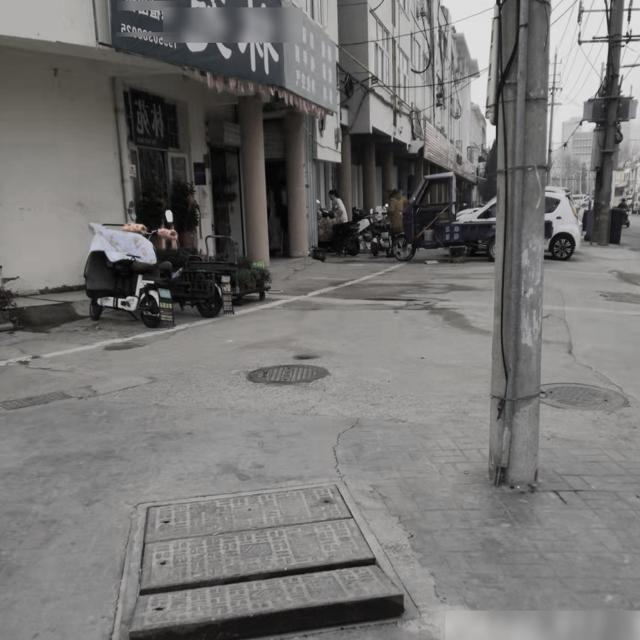good: (242, 362, 334, 390)
uncovered: (119, 476, 423, 640)
